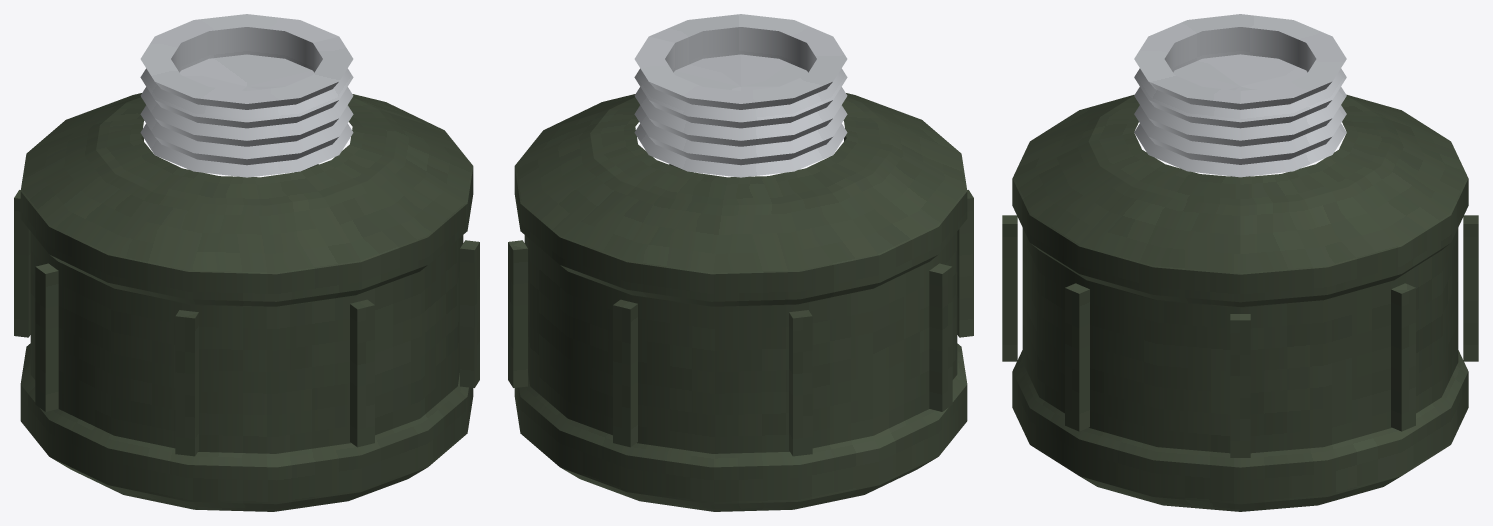
The model's file is item_mask_filter.glb.
3 views of the same model, side by side, from view 1: azimuth 30°, elevation 25°; view 2: azimuth 150°, elevation 25°; view 3: azimuth 270°, elevation 25° (orthographic).
Visible parts, largest first — view 1: filter; view 2: filter; view 3: filter.
Part boxes in pixels (x1,y1,x2,y2): filter: [14, 14, 479, 511]; filter: [508, 14, 973, 511]; filter: [1002, 14, 1478, 511].
Size of the model in its own units: 0.094 by 0.08 by 0.094.
Materials: 3 (3 with a texture image).
